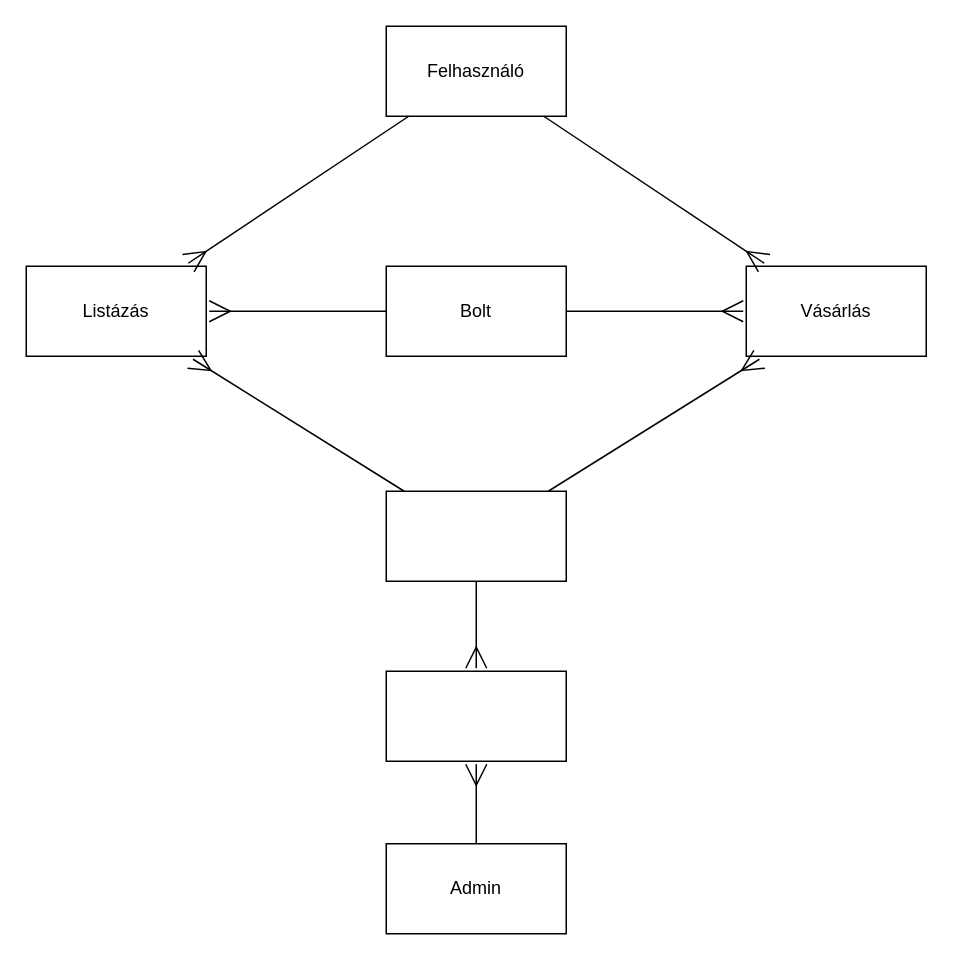
Some shapes in this 953 by 960 pixel diagram are drawn without their labels. Each missing label, with the box of its shape:
Adatmanipuláció: (385, 670, 566, 761)
Termék: (385, 490, 566, 581)
